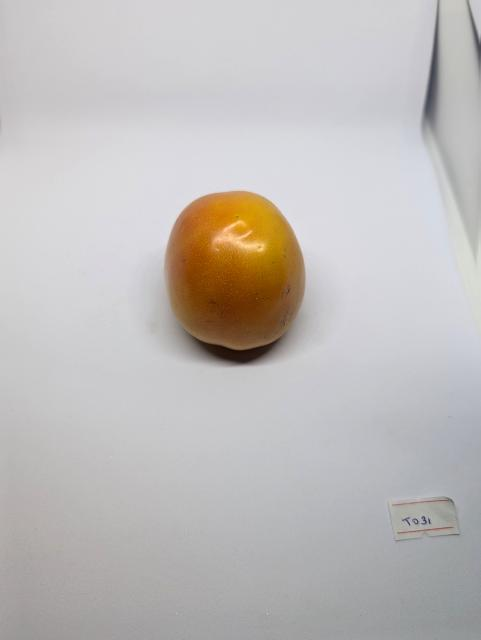turning: (152, 187, 324, 360)
